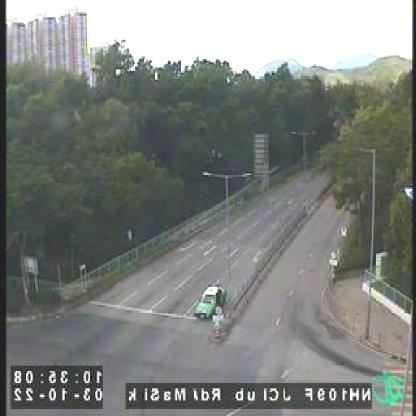Car: (195, 284, 226, 317)
